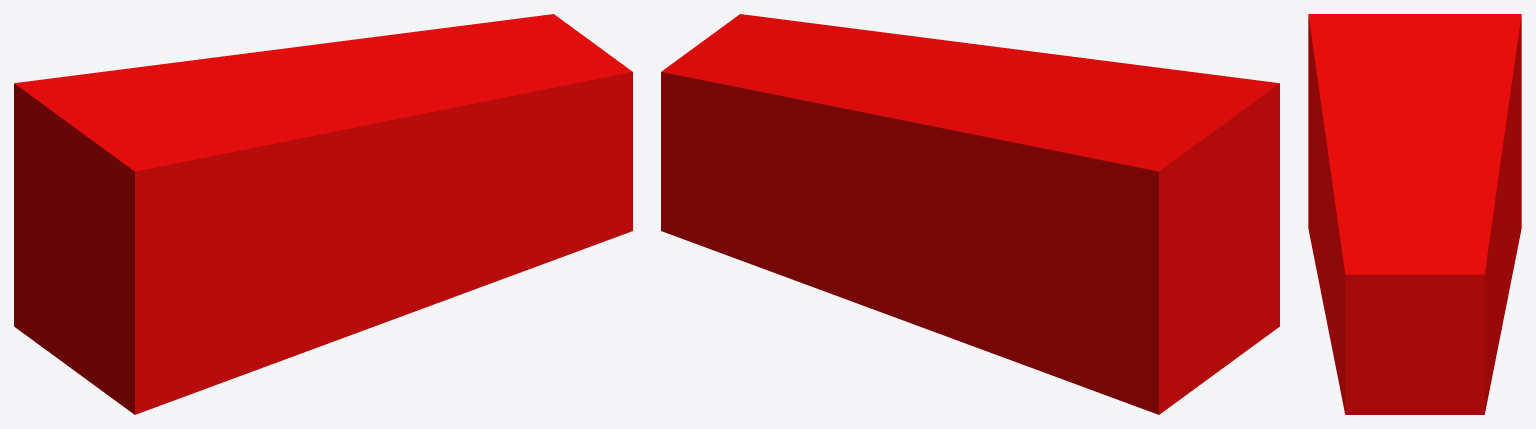
The model's file is phys_player_upparm_red.glb.
The picture shows the model from 3 angles, left to right: view 1: azimuth 30°, elevation 25°; view 2: azimuth 150°, elevation 25°; view 3: azimuth 270°, elevation 25°; orthographic projection. The views are drawn at different scales.
Visible parts, largest first — view 1: Cube.002; view 2: Cube.002; view 3: Cube.002.
Boxes of the visible parts, x1,y1,x2,y2 form: Cube.002: (14,14,632,414); Cube.002: (661,14,1279,414); Cube.002: (1308,14,1521,414).
Size of the model in its own units: 1.93 by 0.8662 by 0.7794.
